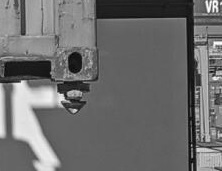Copy of Copy of Copy of Copy of twist_lock_2: (50, 73, 99, 120)
